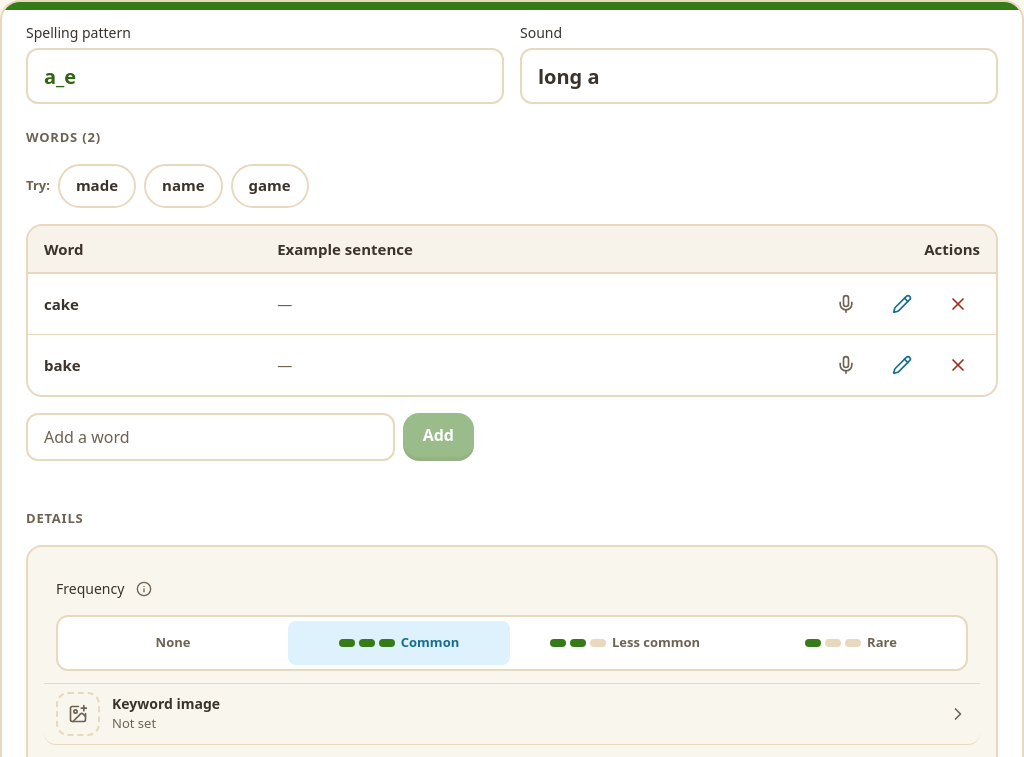
PatternEditor › clears the duplicate notice when the teacher edits the word
In the field named "New word": point(210, 437) left=26, top=413, right=395, bottom=461, type "cake"
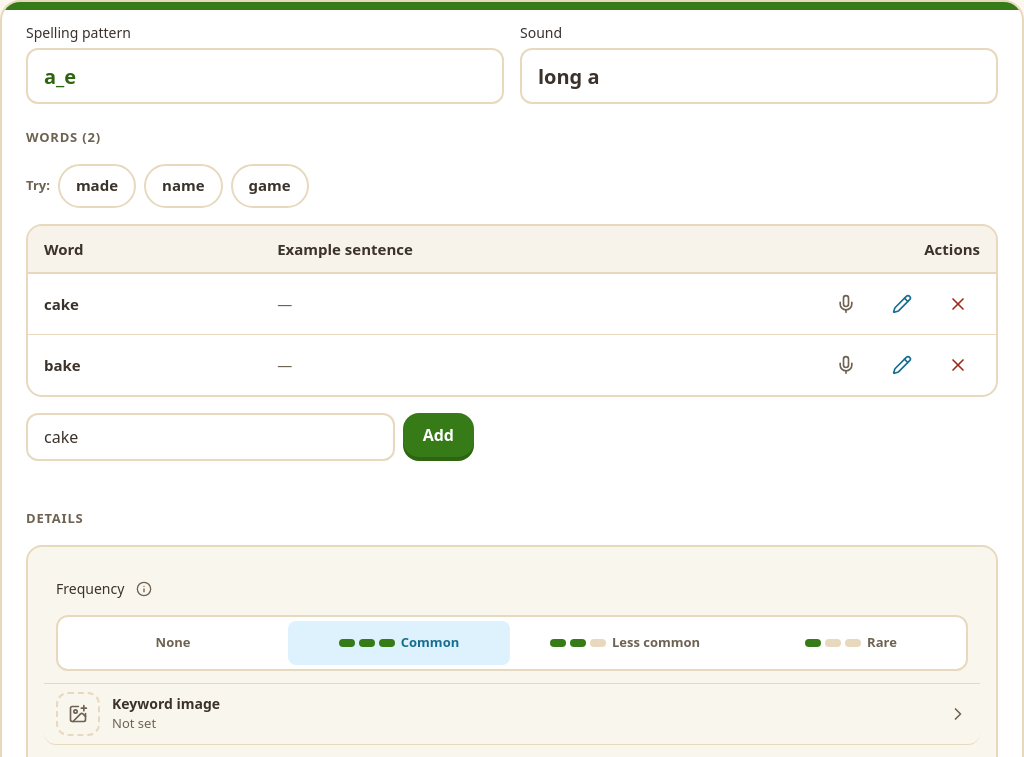
Click the button "Add": point(438, 435) left=403, top=413, right=474, bottom=457
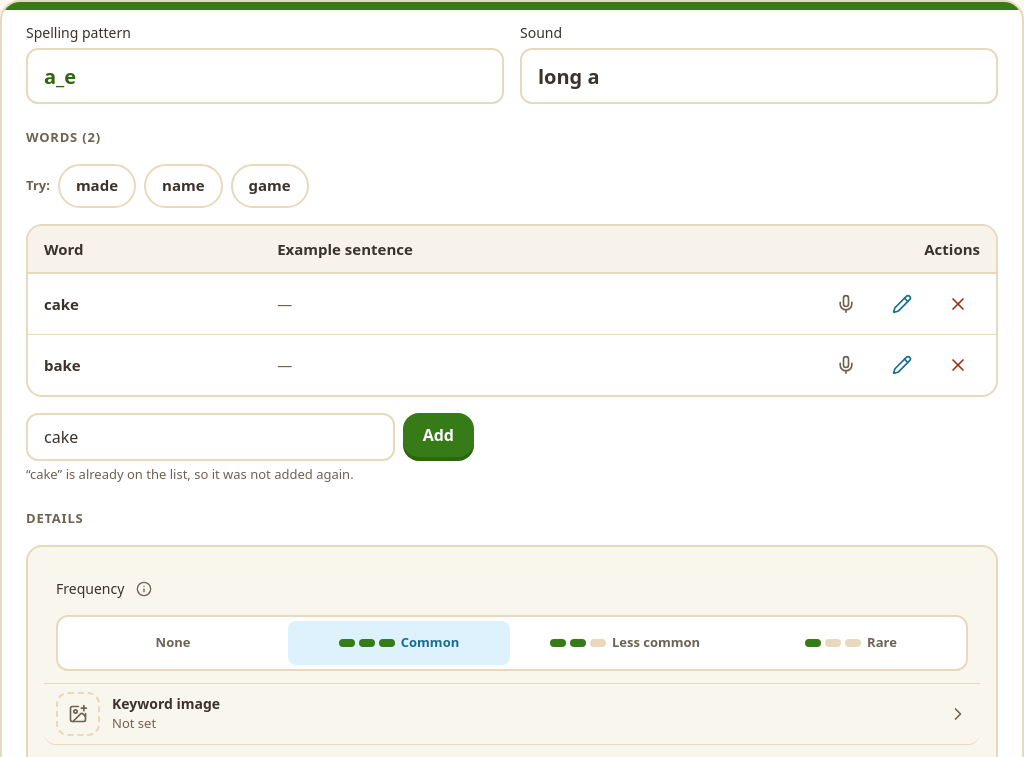
Check: the message "“cake” is already on the list, so it was not added again." is shown, box left=26, top=465, right=354, bottom=483
Replace the text in the field named "New word" with "cakes": point(210, 437) left=26, top=413, right=395, bottom=461
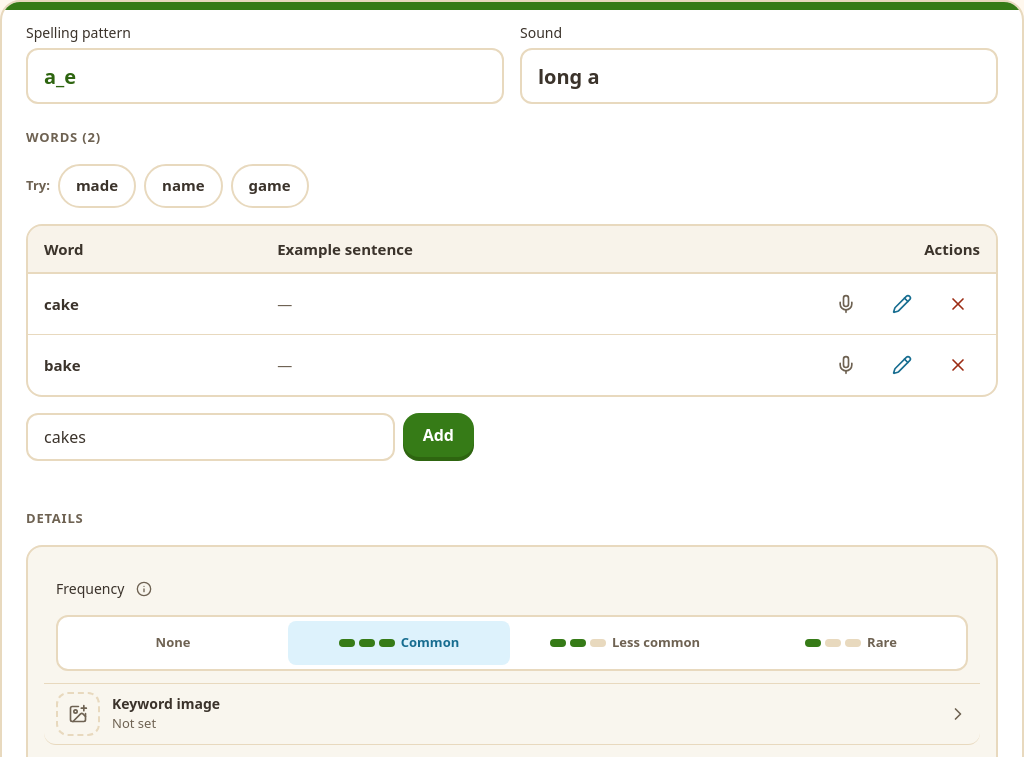
Check: the message "“cake” is already on the list, so it was not added again." is gone
